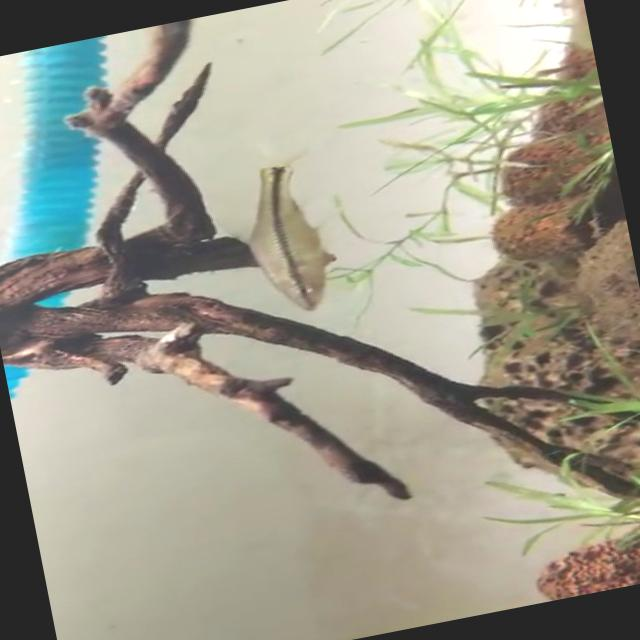Cakil Baligi: (211, 150, 343, 323)
